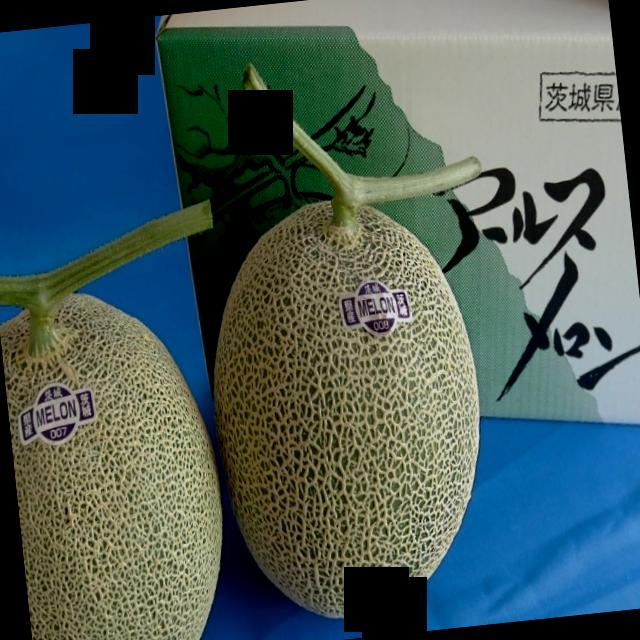melon: (211, 65, 481, 620), (0, 200, 224, 640)
